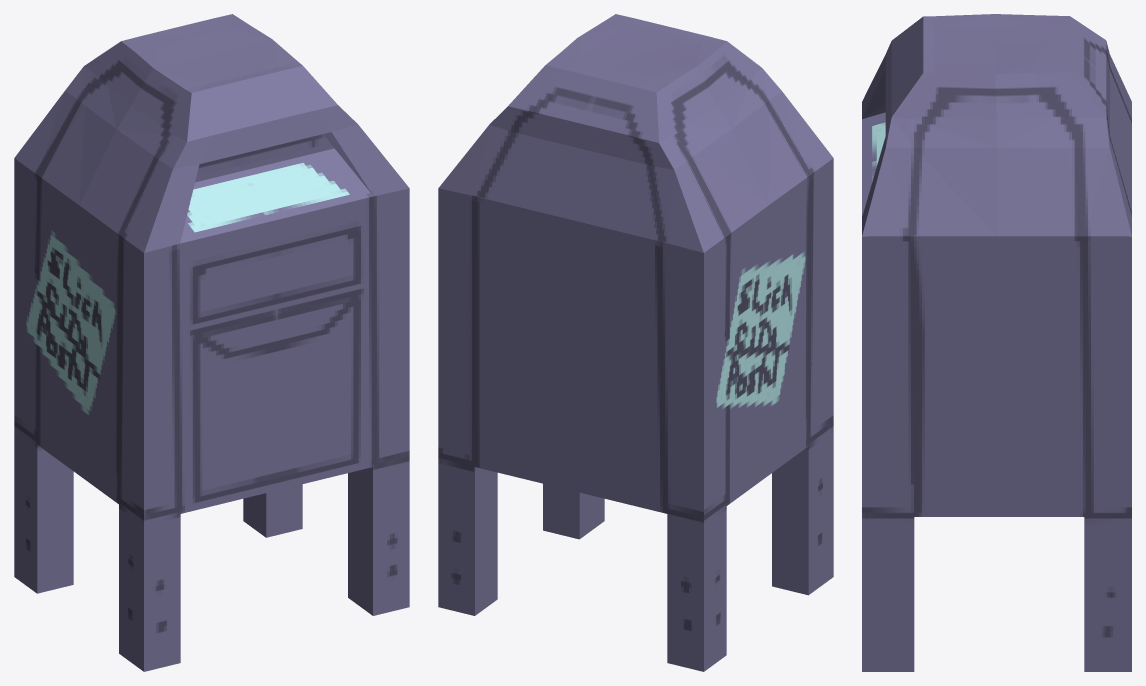
The model's file is mailbox.glb.
The picture shows the model from 3 angles, left to right: view 1: azimuth 30°, elevation 25°; view 2: azimuth 150°, elevation 25°; view 3: azimuth 270°, elevation 25°; orthographic projection. The views are drawn at different scales.
Parts seen in each view (by area): view 1: mailbox; view 2: mailbox; view 3: mailbox.
Boxes of the visible parts, box(x1,y1,x2,y2) form: mailbox: box(14, 14, 409, 671); mailbox: box(438, 14, 833, 671); mailbox: box(862, 14, 1131, 671).
Bounding box in the file's own units: 1 × 1.94 × 0.8485.
1 material, 1 textured.
